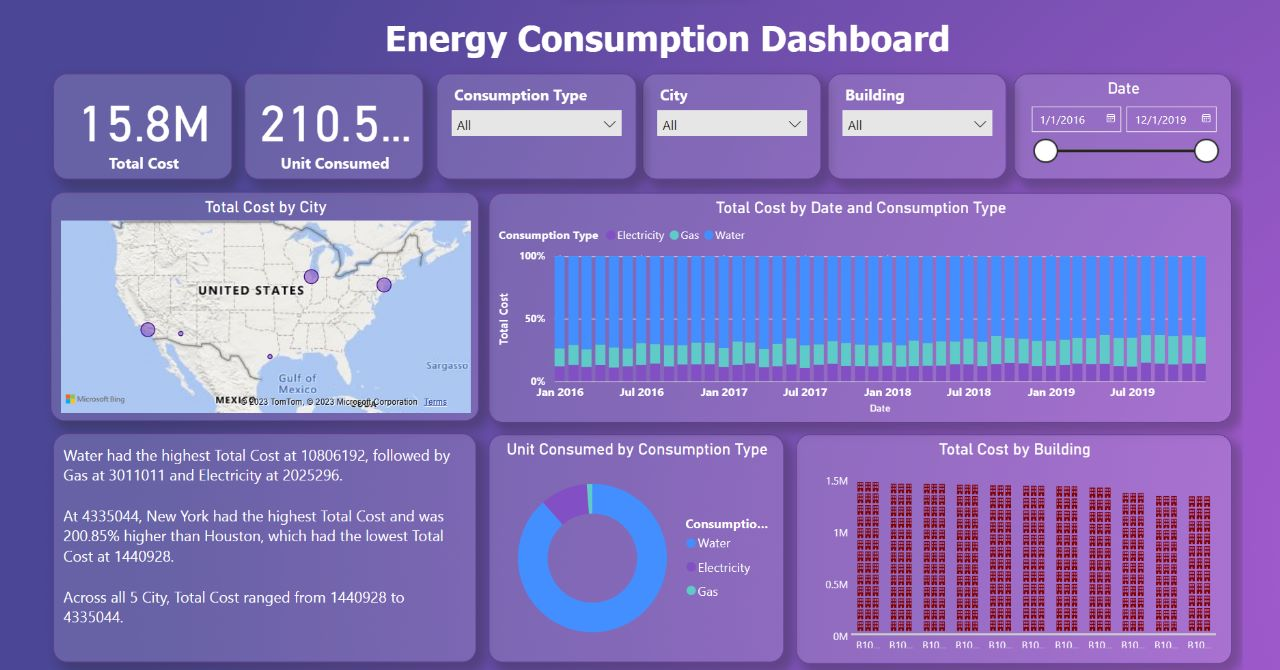

Layout of this report page (visuals, bound fields, positions):
{"tool":"powerbi","page":{"name":"OVERVIEW","canvas":[1280,720],"ordinal":0},"visuals":[{"type":"map","fields":{"Category":["Building Master.City"],"Size":["Measures_Table.Total Cost"]},"box":[11.4,204.5,456.3,244.3],"z":0},{"type":"textbox","box":[361.8,12.2,705.3,74.6],"z":2000},{"type":"textbox","title":"Summary","box":[13.3,462,450.7,244.3],"z":3000},{"type":"card","fields":{"Values":["Measures_Table.Total Cost"]},"box":[13.4,78.2,190.7,112.5],"z":4000},{"type":"donutChart","fields":{"Category":["Energy Consumptions.Consumption Type"],"Y":["Measures_Table.Unit Consumed"]},"box":[476.8,462.5,314.7,243.2],"z":5000},{"type":"slicer","fields":{"Values":["Building Master.City"]},"box":[640.5,78.2,190.7,112.5],"z":6000},{"type":"slicer","title":"Date","fields":{"Values":["Energy Consumptions.Date"]},"box":[1036.6,78.2,232.3,112.5],"z":7000},{"type":"slicer","fields":{"Values":["Energy Consumptions.Building"]},"box":[838.6,78.2,190.7,112.5],"z":8000},{"type":"card","fields":{"Values":["Measures_Table.Unit Consumed"]},"box":[217.6,78.2,190.7,112.5],"z":12000},{"type":"slicer","fields":{"Values":["Energy Consumptions.Consumption Type"]},"box":[421.7,78.2,212.7,112.5],"z":13000},{"type":"hundredPercentStackedColumnChart","fields":{"Category":["Energy Consumptions.Date"],"Y":["Measures_Table.Total Cost"],"Series":["Energy Consumptions.Consumption Type"]},"box":[476.8,205,791.5,244.8],"z":14000},{"type":"PBI_CV_73744D90_4DC9_4F18_8BA5_EE8FA5C98035","fields":{"Values":["Measures_Table.Total Cost"],"Category":["Energy Consumptions.Building"]},"box":[804.2,462.5,464.1,244.8],"z":18000}]}

Visuals, with their boxes on the page's 1280x720 design canvas (x1, y1, x2, y2). These are canvas units, not pixel positions in the 1280x670 screenshot, which may show the page scaled, cropped or inside an application window:
map - Building Master.City x Measures_Table.Total Cost: 11/204/468/449
textbox: 362/12/1067/87
"Summary" textbox: 13/462/464/706
card - Measures_Table.Total Cost: 13/78/204/191
donutChart - Energy Consumptions.Consumption Type x Measures_Table.Unit Consumed: 477/462/792/706
slicer - Building Master.City: 640/78/831/191
"Date" slicer: 1037/78/1269/191
slicer - Energy Consumptions.Building: 839/78/1029/191
card - Measures_Table.Unit Consumed: 218/78/408/191
slicer - Energy Consumptions.Consumption Type: 422/78/634/191
hundredPercentStackedColumnChart - Energy Consumptions.Date x Measures_Table.Total Cost: 477/205/1268/450
PBI_CV_73744D90_4DC9_4F18_8BA5_EE8FA5C98035 - Measures_Table.Total Cost x Energy Consumptions.Building: 804/462/1268/707
